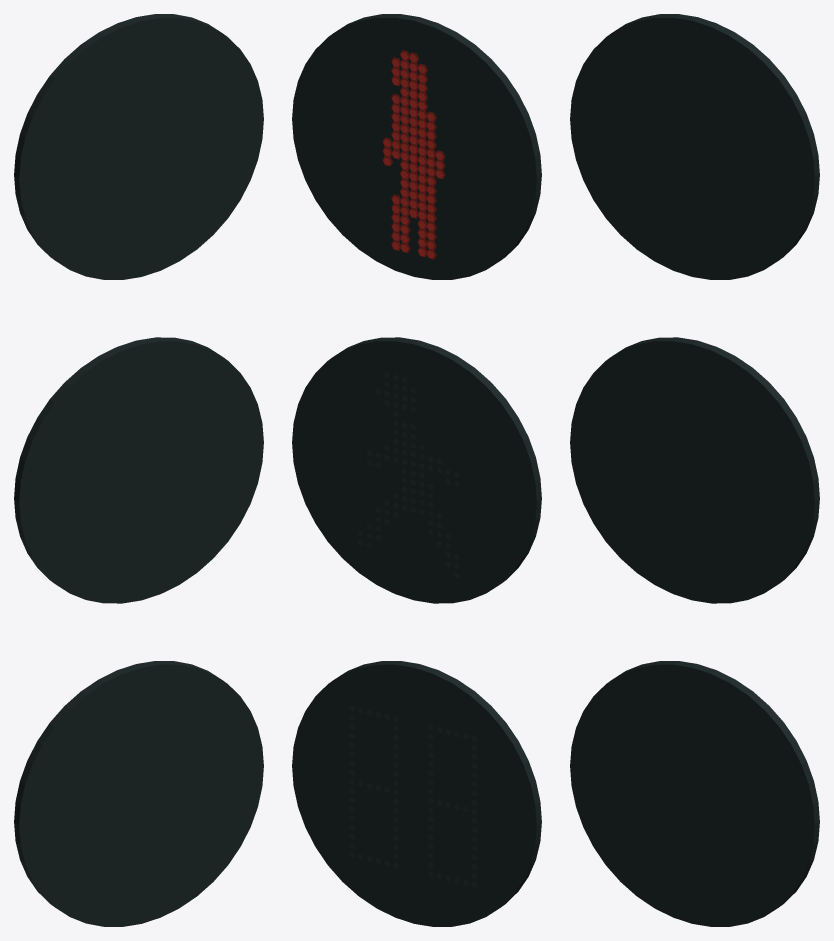
The model's file is pixels.glb.
The picture shows the model from 3 angles, left to right: view 1: azimuth 30°, elevation 25°; view 2: azimuth 150°, elevation 25°; view 3: azimuth 330°, elevation 25°; orthographic projection.
Visible parts, largest first — view 1: pixels; view 2: pixels; view 3: pixels.
Boxes of the visible parts, x1,y1,x2,y2 form: pixels: [14, 14, 263, 926]; pixels: [292, 14, 541, 926]; pixels: [570, 14, 819, 926].
Bounding box in the file's own units: 0.27 × 0.952 × 0.0121.
